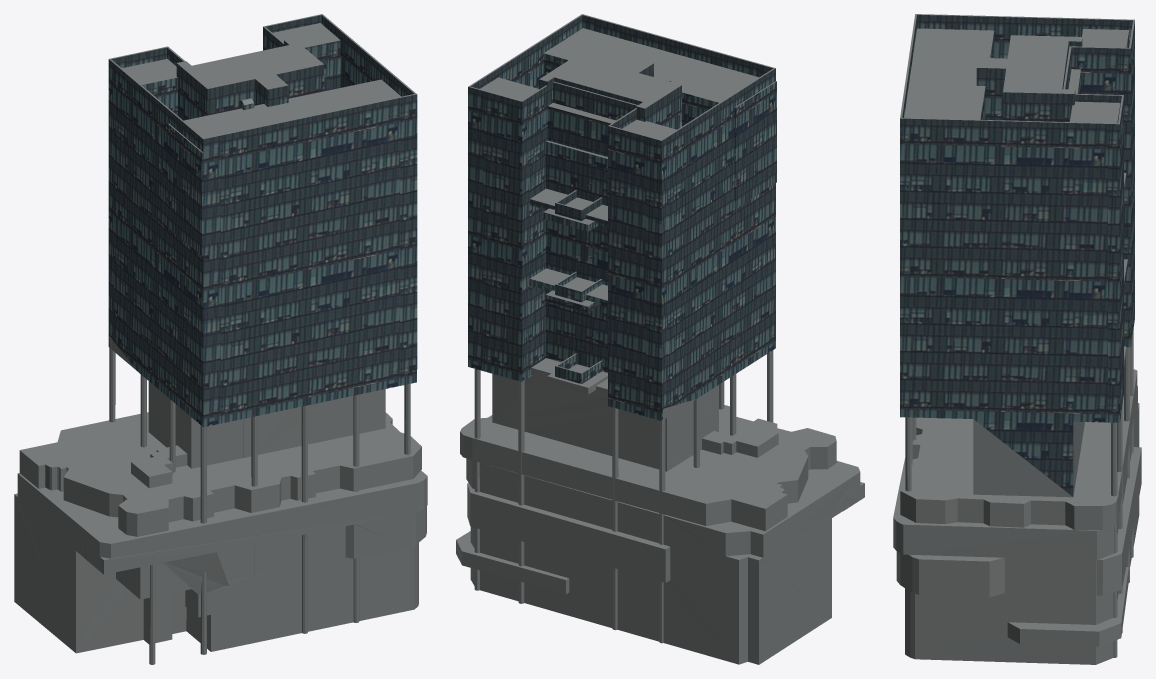
3 views of the same model, side by side, from view 1: azimuth 30°, elevation 25°; view 2: azimuth 150°, elevation 25°; view 3: azimuth 270°, elevation 25° (orthographic). The views are drawn at different scales.
Visible parts, largest first — view 1: ONE UPPER PICKERING; view 2: ONE UPPER PICKERING; view 3: ONE UPPER PICKERING.
Boxes of the visible parts, box(x1,y1,x2,y2) form: ONE UPPER PICKERING: box(14, 14, 427, 664); ONE UPPER PICKERING: box(456, 14, 864, 664); ONE UPPER PICKERING: box(893, 14, 1141, 664).
Size of the model in its own units: 60.95 by 90.47 by 37.71.
Materials: 2 (1 with a texture image).
